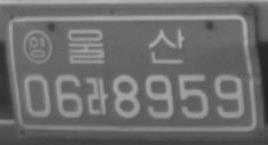0: (22, 73, 51, 118)
5: (177, 72, 209, 120)
6: (55, 73, 83, 119)
8: (111, 73, 140, 119)
9: (213, 72, 245, 119), (144, 73, 174, 120)
라: (85, 75, 109, 116)
영: (21, 28, 53, 65)
울산_D: (67, 28, 186, 64)
